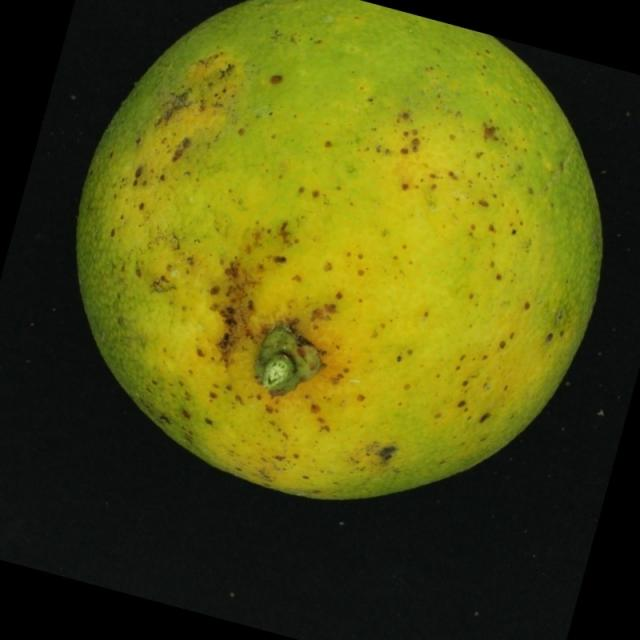grenning: (16, 2, 620, 518)
